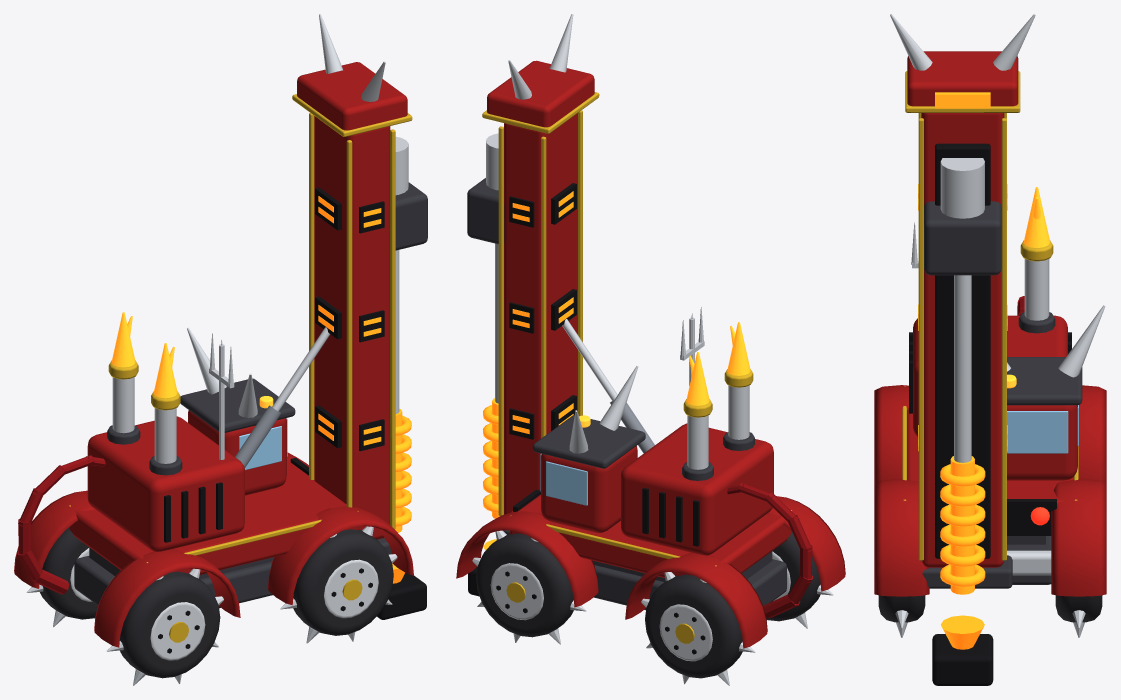
The model's file is vehicle_drill_rig_t3.glb.
3 views of the same model, side by side, from view 1: azimuth 30°, elevation 25°; view 2: azimuth 150°, elevation 25°; view 3: azimuth 270°, elevation 25° (orthographic). The views are drawn at different scales.
Visible parts, largest first — view 1: Mast.Column, Engine, Deck, WheelRR.Tyre, WheelFR.Tyre, Fender, Mast.Crown, Fender.001, Chassis, Cab.Roof, Mast.Trim, Fender.002 (+28 smaller); view 2: Mast.Column, Engine, Deck, WheelFL.Tyre, WheelRL.Tyre, Fender.002, Mast.Crown, Cab.Shell, Fender.003, Cab.Roof, Chassis, Fender (+24 smaller); view 3: Mast.Column, Mast.Rail, Fender.003, Fender.001, Mast.RotaryHead, Mast.Crown, Mast.BitThread, Mast.Rod, Cab.Roof, Fender, DustHood, Cab.Shell (+25 smaller).
Part boxes in pixels (bbox=[...]): Mast.Column: bbox=[314, 116, 390, 539]; Engine: bbox=[87, 416, 244, 551]; Deck: bbox=[69, 460, 358, 574]; WheelRR.Tyre: bbox=[120, 571, 220, 678]; WheelFR.Tyre: bbox=[293, 529, 393, 635]; Fender: bbox=[94, 549, 240, 647]; Mast.Crown: bbox=[297, 62, 407, 130]; Fender.001: bbox=[268, 506, 413, 605]; Chassis: bbox=[74, 556, 272, 608]; Cab.Roof: bbox=[180, 378, 295, 432]; Mast.Trim: bbox=[346, 140, 352, 507]; Fender.002: bbox=[14, 490, 95, 588]; Mast.Column: bbox=[504, 113, 577, 514]; Engine: bbox=[621, 423, 773, 555]; Deck: bbox=[510, 494, 791, 577]; WheelFL.Tyre: bbox=[476, 533, 573, 637]; WheelRL.Tyre: bbox=[645, 574, 742, 678]; Fender.002: bbox=[625, 552, 767, 648]; Mast.Crown: bbox=[487, 60, 594, 127]; Cab.Shell: bbox=[541, 446, 637, 532]; Fender.003: bbox=[456, 511, 598, 607]; Cab.Roof: bbox=[532, 415, 645, 468]; Chassis: bbox=[593, 559, 786, 610]; Fender: bbox=[766, 496, 845, 591]; Mast.Column: bbox=[921, 113, 1004, 567]; Mast.Rail: bbox=[935, 143, 990, 558]; Fender.003: bbox=[1051, 478, 1106, 596]; Fender.001: bbox=[874, 478, 929, 596]; Mast.RotaryHead: bbox=[924, 201, 1001, 275]; Mast.Crown: bbox=[907, 51, 1018, 106]; Mast.BitThread: bbox=[940, 464, 985, 586]; Mast.Rod: bbox=[954, 275, 971, 462]; Cab.Roof: bbox=[1007, 357, 1082, 405]; Fender: bbox=[874, 385, 908, 483]; DustHood: bbox=[932, 634, 993, 685]; Cab.Shell: bbox=[1007, 405, 1077, 480].
Bounding box in the file's own units: 4.26 × 6.37 × 2.1.
